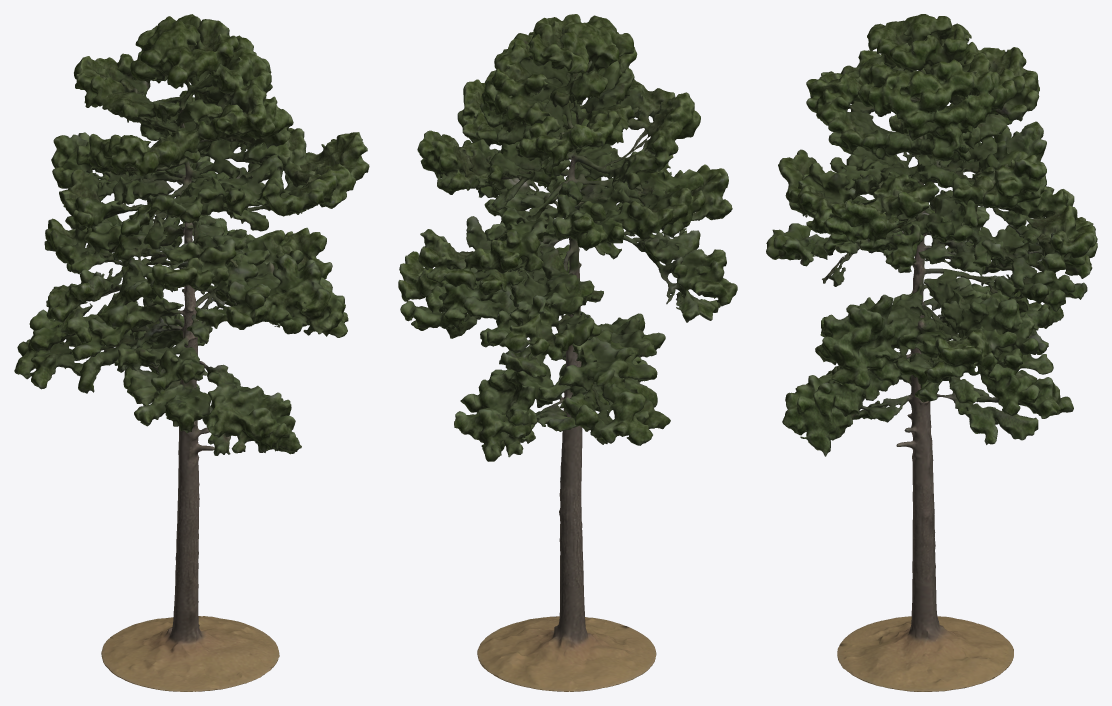
The model's file is Meshy_AI_Lone_Pine_0904110301_texture.fbx.
The picture shows the model from 3 angles, left to right: view 1: azimuth 30°, elevation 25°; view 2: azimuth 150°, elevation 25°; view 3: azimuth 270°, elevation 25°; orthographic projection.
Visible parts, largest first — view 1: mesh_node; view 2: mesh_node; view 3: mesh_node.
Boxes of the visible parts, x1=… form: mesh_node: x1=14, y1=14, x2=369, y2=691; mesh_node: x1=398, y1=14, x2=737, y2=691; mesh_node: x1=766, y1=14, x2=1097, y2=691.
Size of the model in its own units: 94.1 by 190 by 89.9.
1 material, 1 textured.
